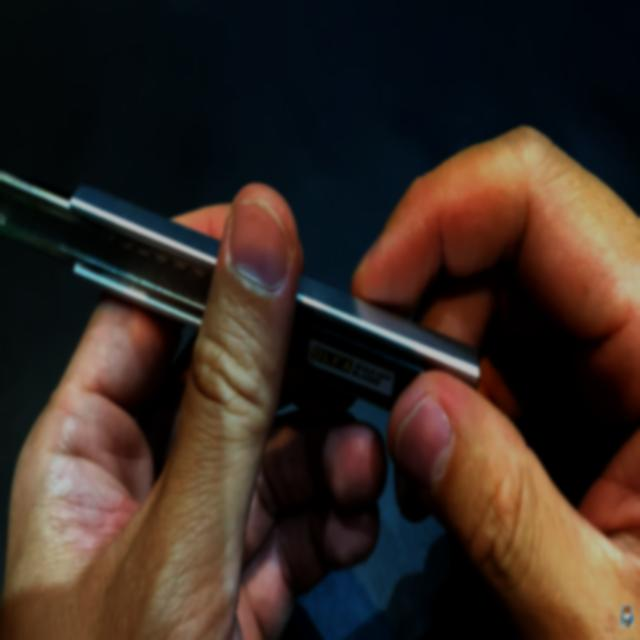cutter: (0, 63, 632, 640)
